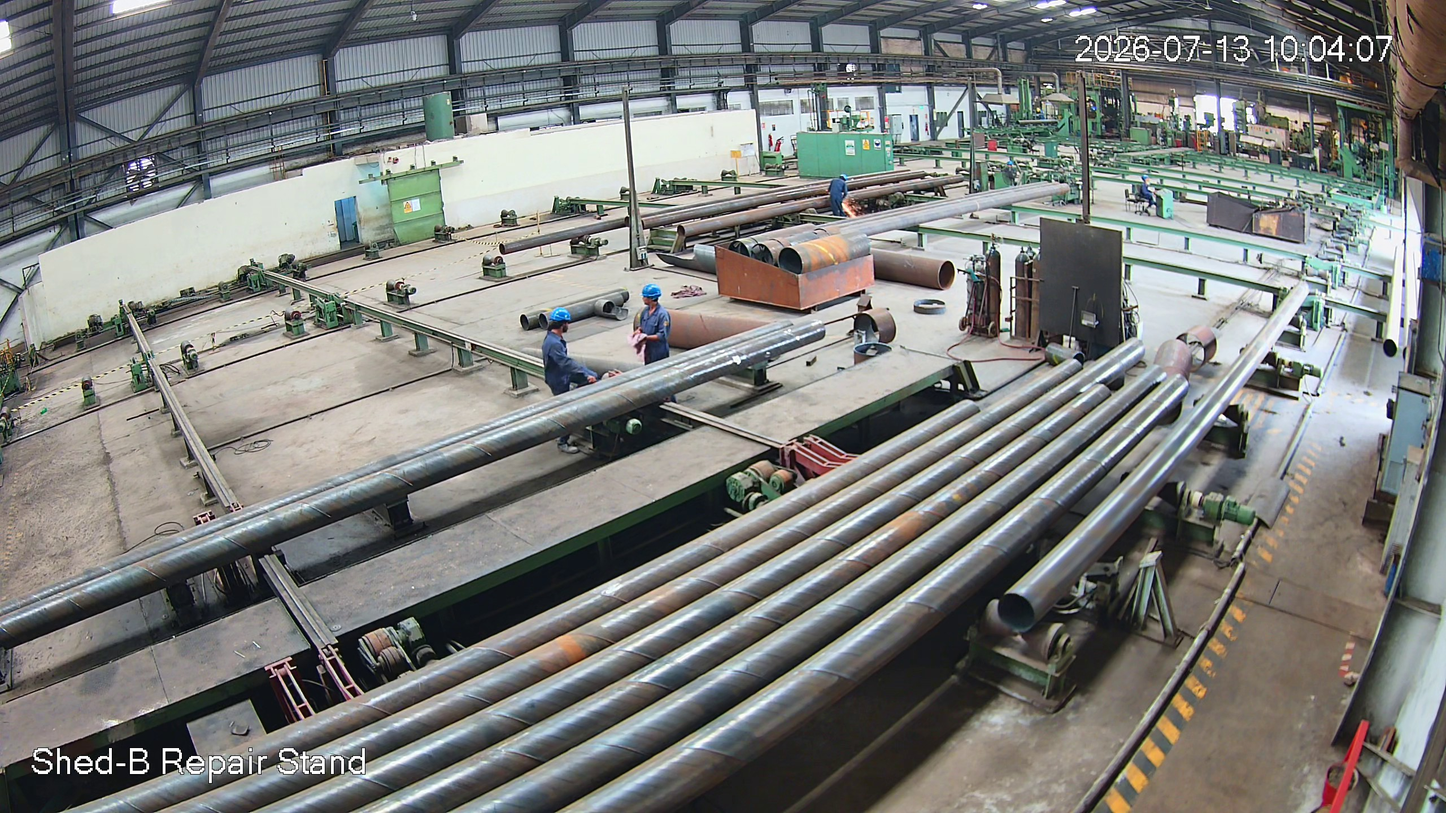Helmet: (546, 306, 577, 338), (639, 284, 666, 314)
Person: (540, 308, 595, 396), (633, 285, 674, 365)
